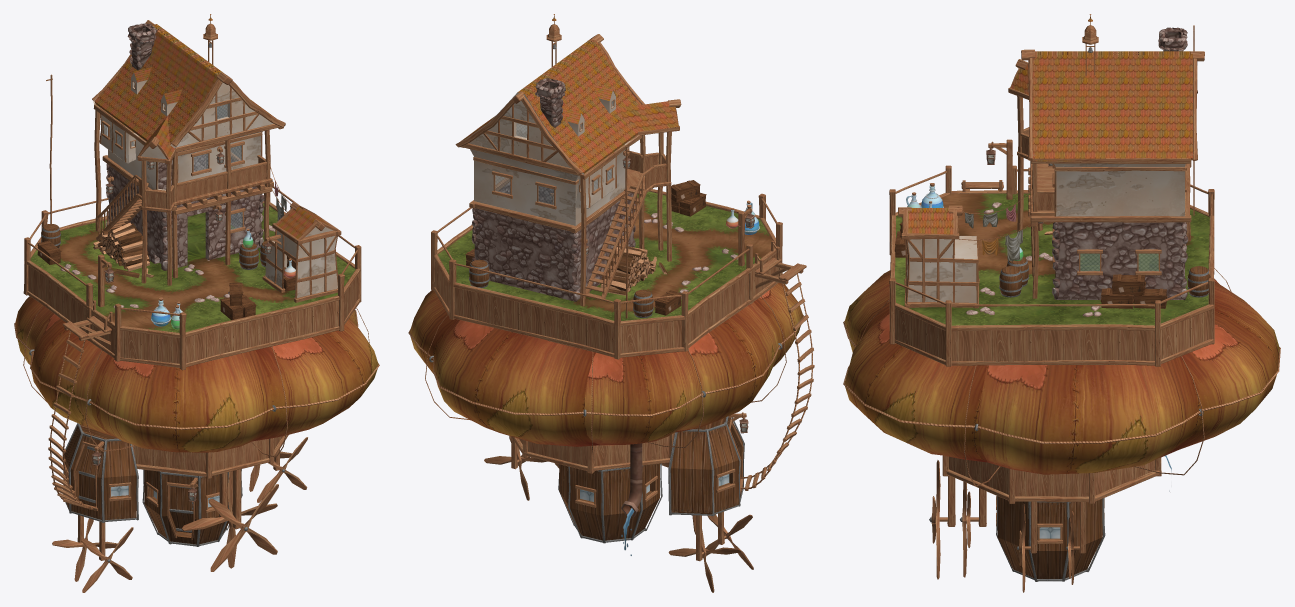
The model's file is island.glb.
3 renders of one model, left to right at view 1: azimuth 30°, elevation 25°; view 2: azimuth 150°, elevation 25°; view 3: azimuth 270°, elevation 25°, orthographic. The views are drawn at different scales.
Parts seen in each view (by area): view 1: Object_2, Object_19, Object_17, Object_12, Object_5, Object_4, Object_20, Object_30, Object_14, Object_11, Object_24, Object_9 (+8 smaller); view 2: Object_2, Object_19, Object_17, Object_4, Object_12, Object_30, Object_20, Object_14, Object_5, Object_11, Object_9, Object_8 (+2 smaller); view 3: Object_2, Object_20, Object_19, Object_12, Object_5, Object_17, Object_30, Object_14, Object_4, Object_9, Object_24, Object_25 (+4 smaller).
Boxes of the visible parts, x1,y1,x2,y2 form: Object_2: (15, 296, 378, 452); Object_19: (23, 74, 361, 370); Object_17: (92, 20, 285, 487); Object_12: (30, 203, 355, 332); Object_5: (48, 339, 307, 592); Object_4: (62, 423, 242, 546); Object_20: (94, 24, 276, 158); Object_30: (106, 153, 264, 270); Object_14: (93, 72, 273, 190); Object_11: (14, 146, 379, 507); Object_24: (265, 227, 337, 297); Object_9: (29, 224, 295, 411); Object_2: (410, 283, 803, 446); Object_19: (431, 146, 806, 359); Object_17: (455, 21, 752, 421); Object_4: (558, 416, 744, 543); Object_12: (438, 191, 774, 320); Object_30: (471, 182, 635, 301); Object_20: (459, 39, 678, 173); Object_14: (461, 91, 638, 225); Object_5: (484, 282, 814, 592); Object_11: (408, 151, 812, 489); Object_9: (429, 180, 782, 416); Object_8: (621, 443, 642, 555); Object_2: (844, 270, 1279, 474); Object_20: (1011, 51, 1192, 161); Object_19: (889, 25, 1214, 366); Object_12: (895, 193, 1209, 325); Object_5: (931, 455, 1161, 592); Object_17: (988, 22, 1204, 298); Object_30: (1052, 222, 1188, 299); Object_14: (1054, 163, 1185, 216); Object_4: (996, 496, 1105, 581); Object_9: (894, 222, 1210, 431); Object_24: (907, 236, 977, 302); Object_25: (898, 205, 979, 308).
Size of the model in its own units: 13.25 by 20.61 by 13.5.
Materials: 27 (26 with a texture image).
